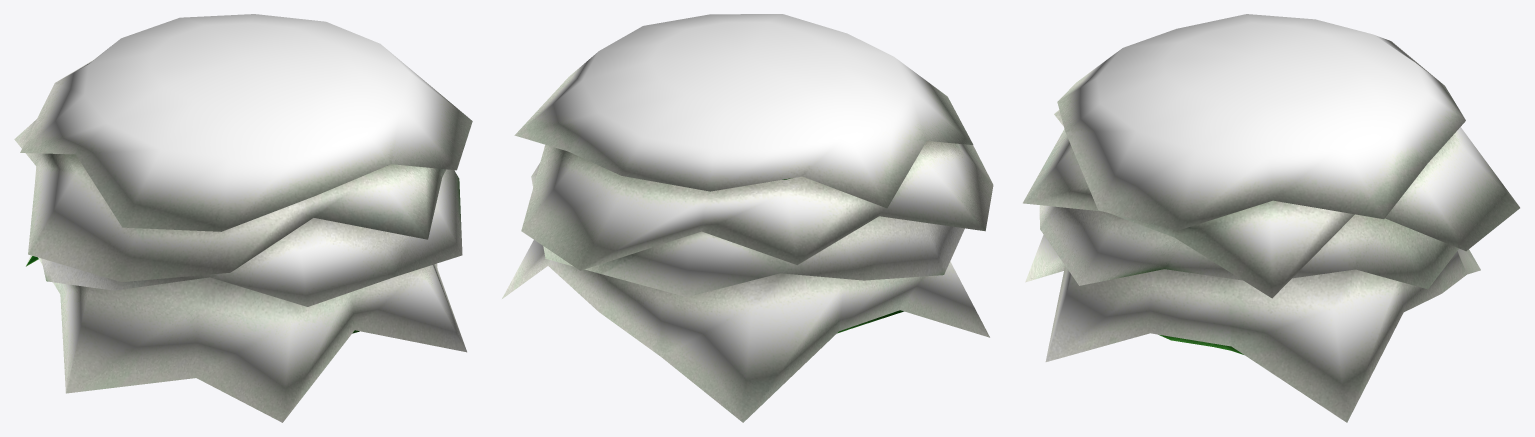
The model's file is Bush_Snow.glb.
3 renders of one model, left to right at view 1: azimuth 30°, elevation 25°; view 2: azimuth 150°, elevation 25°; view 3: azimuth 270°, elevation 25°, orthographic.
Parts seen in each view (by area): view 1: Cylinder; view 2: Cylinder; view 3: Cylinder.
Boxes of the visible parts, left/top/right/bottom form: Cylinder: left=14, top=14, right=472, bottom=422; Cylinder: left=502, top=14, right=993, bottom=422; Cylinder: left=1023, top=14, right=1519, bottom=422.
Bounding box in the file's own units: 3.17 × 1.77 × 3.02.
Materials: 1 (1 with a texture image).
